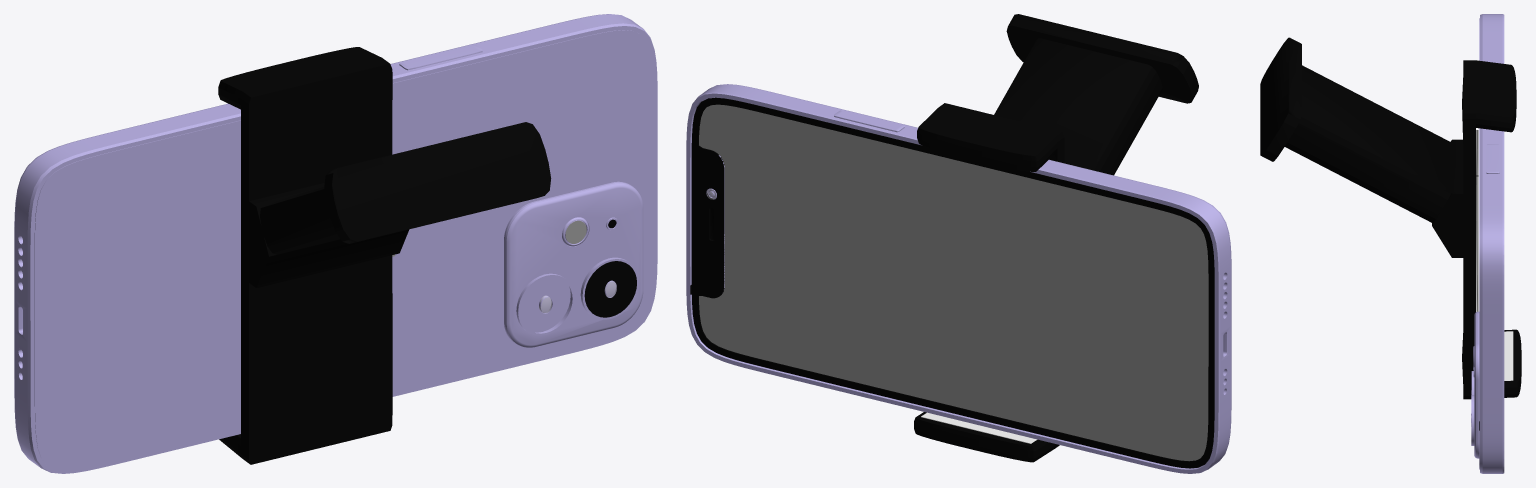
3 renders of one model, left to right at view 1: azimuth 30°, elevation 25°; view 2: azimuth 150°, elevation 25°; view 3: azimuth 270°, elevation 25°, orthographic. The views are drawn at different scales.
Visible parts, largest first — view 1: Phone, PhoneHolder; view 2: Phone, PhoneHolder; view 3: PhoneHolder, Phone.
Part boxes in pixels (<box>): Phone: <box>14,14,657,473</box>; PhoneHolder: <box>218,47,551,464</box>; Phone: <box>686,84,1231,473</box>; PhoneHolder: <box>914,14,1198,462</box>; PhoneHolder: <box>1260,37,1521,399</box>; Phone: <box>1471,14,1504,473</box>.
Size of the model in its own units: 24.42 by 14.26 by 11.27.
